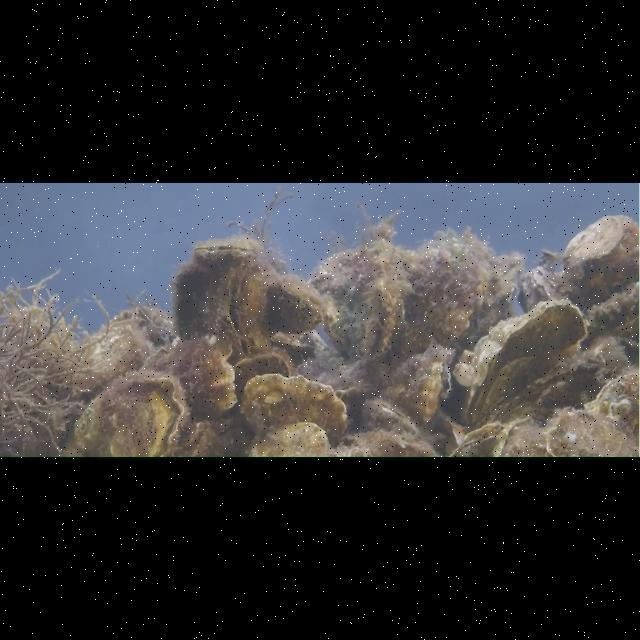Oyster-Closed: (74, 372, 186, 458), (140, 336, 238, 420), (82, 306, 176, 386), (240, 374, 348, 442), (546, 409, 640, 458), (562, 214, 638, 274), (592, 374, 640, 454), (515, 267, 585, 315), (249, 422, 331, 460), (360, 286, 398, 362), (233, 352, 290, 400), (363, 397, 421, 438), (494, 417, 548, 458), (446, 421, 506, 457)
Oyster-Open: (462, 298, 590, 420), (218, 270, 270, 358), (422, 356, 452, 420), (191, 236, 259, 264)
